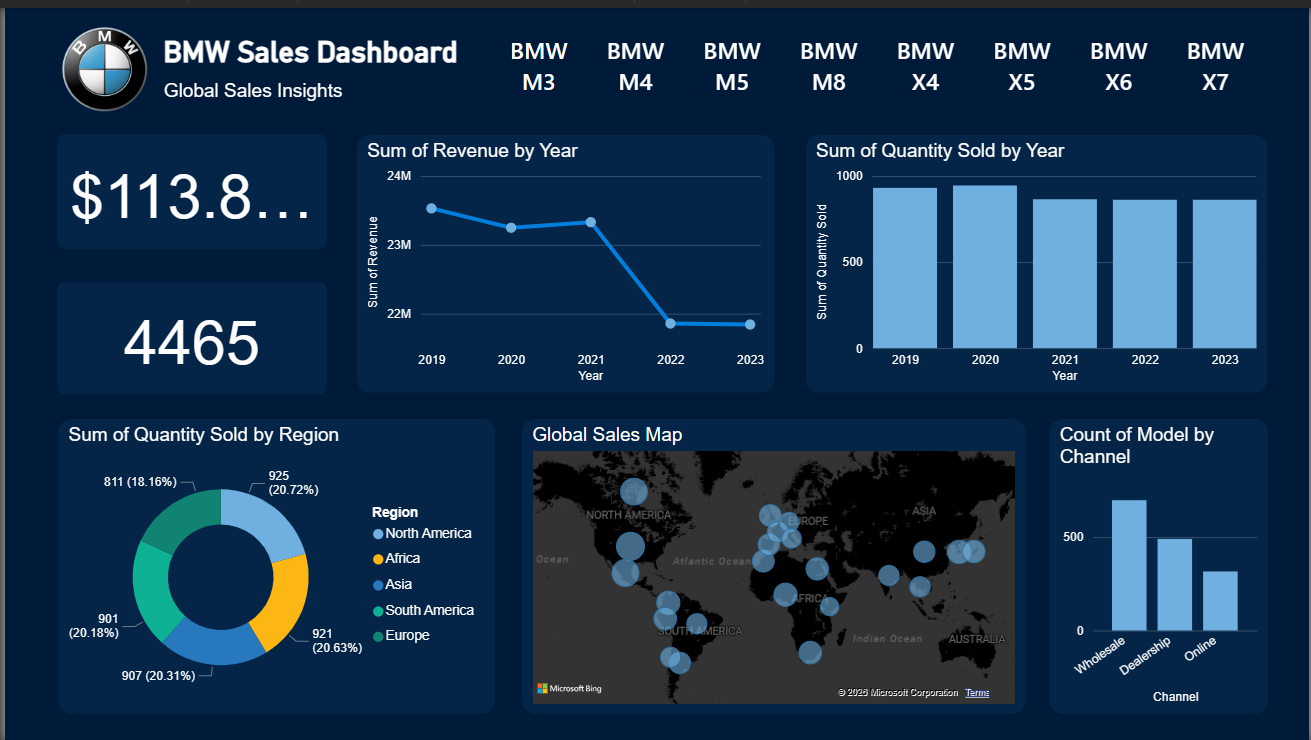

The page's visual inventory and layout, read from the dashboard file:
{"tool":"powerbi","page":{"name":"Page 1","canvas":[1280,720],"ordinal":0},"visuals":[{"type":"textbox","box":[138.8,8.7,322.5,68.8],"z":0},{"type":"card","title":"Total Revenue","fields":{"Values":["Sum(BMW_Sales_Data.Revenue)"]},"box":[51.4,124.3,264.3,112.9],"z":1000},{"type":"slicer","title":"Model","fields":{"Values":["BMW_Sales_Data.Model"]},"box":[451.4,2.9,807.1,108.6],"z":2000},{"type":"card","title":"Total Sales","fields":{"Values":["Sum(BMW_Sales_Data.Quantity Sold)"]},"box":[51.4,268.6,264.3,110],"z":3000},{"type":"map","title":"Global Sales Map","fields":{"Category":["BMW_Sales_Data.Country"],"Size":["Sum(BMW_Sales_Data.Quantity Sold)"]},"box":[507.1,402.9,495.7,291.4],"z":4000},{"type":"lineChart","fields":{"Category":["BMW_Sales_Data.Year"],"Y":["Sum(BMW_Sales_Data.Revenue)"]},"box":[344.3,124.3,411.4,254.3],"z":5000},{"type":"columnChart","fields":{"Category":["BMW_Sales_Data.Year"],"Y":["Sum(BMW_Sales_Data.Quantity Sold)"]},"box":[785.7,124.3,454.3,254.3],"z":6000},{"type":"donutChart","fields":{"Y":["Sum(BMW_Sales_Data.Quantity Sold)"],"Category":["BMW_Sales_Data.Region"]},"box":[51.4,402.9,430,291.4],"z":7000},{"type":"textbox","box":[151.3,53.7,192.5,57.5],"z":8000},{"type":"columnChart","fields":{"Category":["BMW_Sales_Data.Channel"],"Y":["CountNonNull(BMW_Sales_Data.Model)"]},"box":[1024,403,216,291],"z":9000},{"type":"image","box":[51.4,8.6,92.9,102.9],"z":10000}]}

Visuals, with their boxes in screenshot pixels (x1, y1, x2, y2), scaled from the page's 1280x720 canvas onto the 1311x740 screenshot:
textbox: 142, 9, 472, 80
"Total Revenue" card: 53, 128, 323, 244
"Model" slicer: 462, 3, 1289, 115
"Total Sales" card: 53, 276, 323, 389
"Global Sales Map" map: 519, 414, 1027, 714
lineChart - BMW_Sales_Data.Year x Sum(BMW_Sales_Data.Revenue): 353, 128, 774, 389
columnChart - BMW_Sales_Data.Year x Sum(BMW_Sales_Data.Quantity Sold): 805, 128, 1270, 389
donutChart - Sum(BMW_Sales_Data.Quantity Sold) x BMW_Sales_Data.Region: 53, 414, 493, 714
textbox: 155, 55, 352, 114
columnChart - BMW_Sales_Data.Channel x CountNonNull(BMW_Sales_Data.Model): 1049, 414, 1270, 713
image: 53, 9, 148, 115
